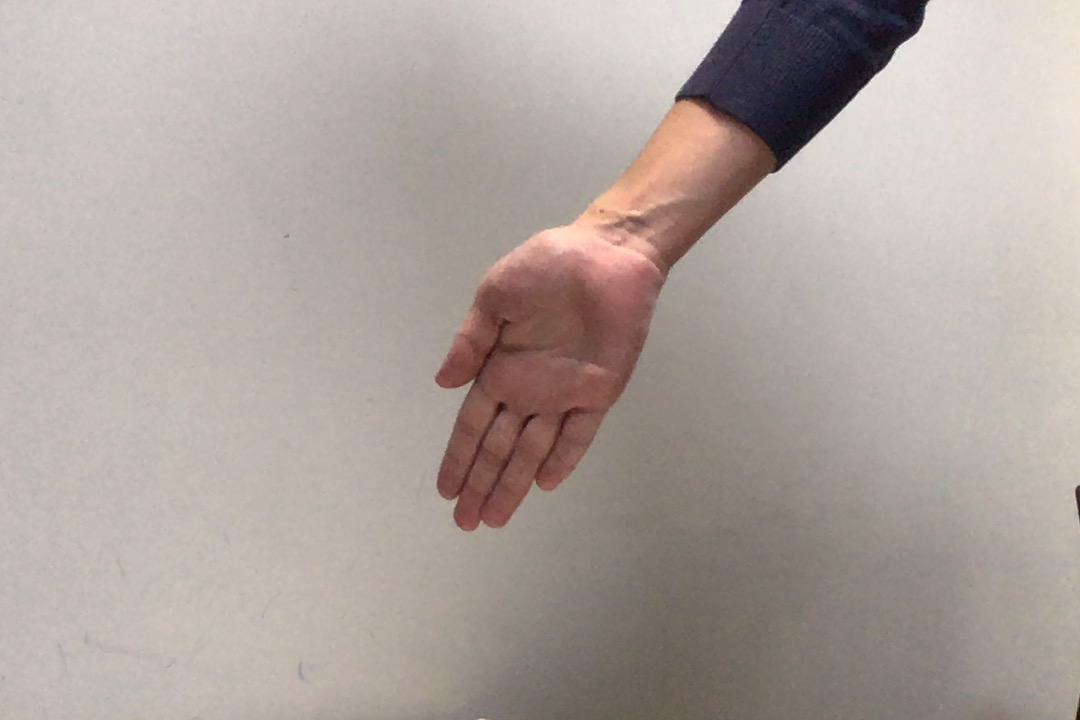palmhand: (423, 222, 661, 539)
